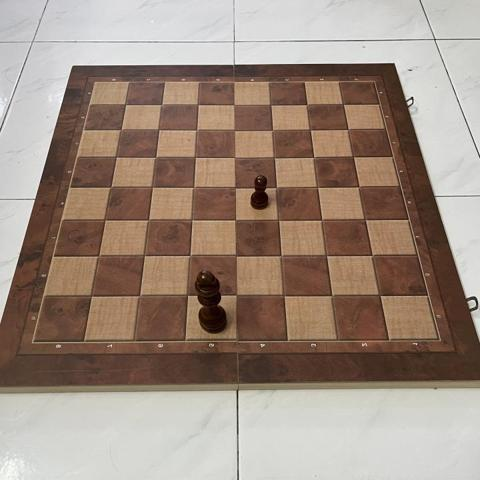xcorner: (300, 97, 318, 114), (179, 287, 197, 304), (228, 287, 245, 305), (118, 95, 135, 112), (154, 96, 171, 113), (191, 96, 208, 113), (228, 96, 245, 113), (264, 97, 281, 114), (337, 97, 354, 114), (113, 120, 130, 137), (151, 121, 168, 138), (190, 121, 207, 138), (228, 121, 245, 138), (266, 122, 283, 139), (304, 122, 321, 139), (341, 122, 358, 139), (108, 148, 125, 165), (148, 148, 165, 165), (188, 148, 205, 165), (228, 149, 245, 166), (267, 149, 284, 166), (307, 149, 324, 166), (346, 150, 363, 167), (102, 178, 119, 195), (144, 178, 161, 195), (186, 178, 203, 195), (228, 179, 245, 196), (269, 179, 286, 196), (311, 179, 328, 196), (352, 179, 369, 196), (96, 211, 113, 228), (140, 211, 157, 228), (184, 211, 201, 228), (228, 211, 245, 228), (271, 212, 288, 229), (315, 212, 332, 229), (358, 212, 375, 229), (90, 247, 107, 264), (136, 247, 153, 264), (182, 247, 199, 264), (228, 247, 245, 264), (274, 248, 291, 265), (319, 248, 336, 265), (365, 248, 382, 265), (82, 287, 99, 304), (131, 287, 148, 304), (276, 288, 293, 305), (324, 288, 341, 305), (372, 288, 389, 305)
